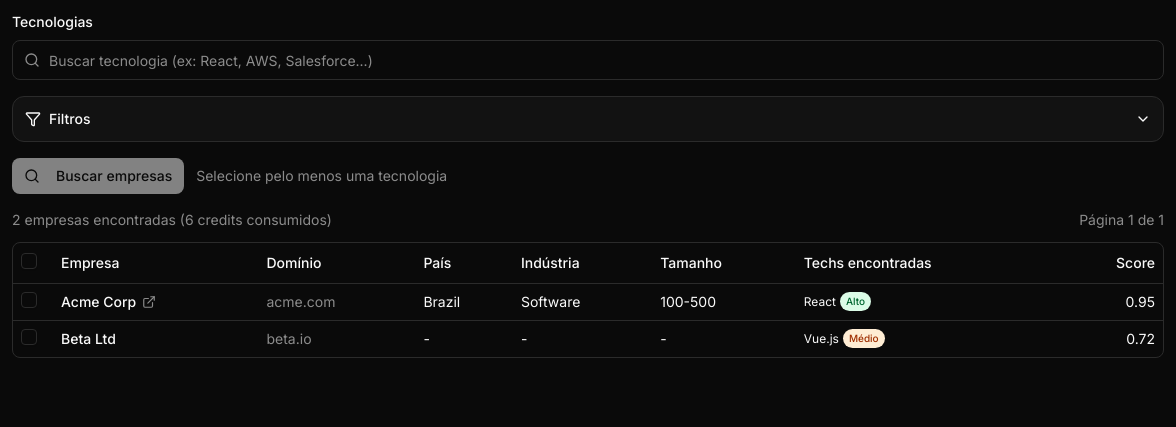
Test: TechnographicPageContent › selecting a company updates selection state
// Select Acme Corp
Click the checkbox with test id "select-row-acme.com". click: click(29, 300)
box: [21,292,37,308]
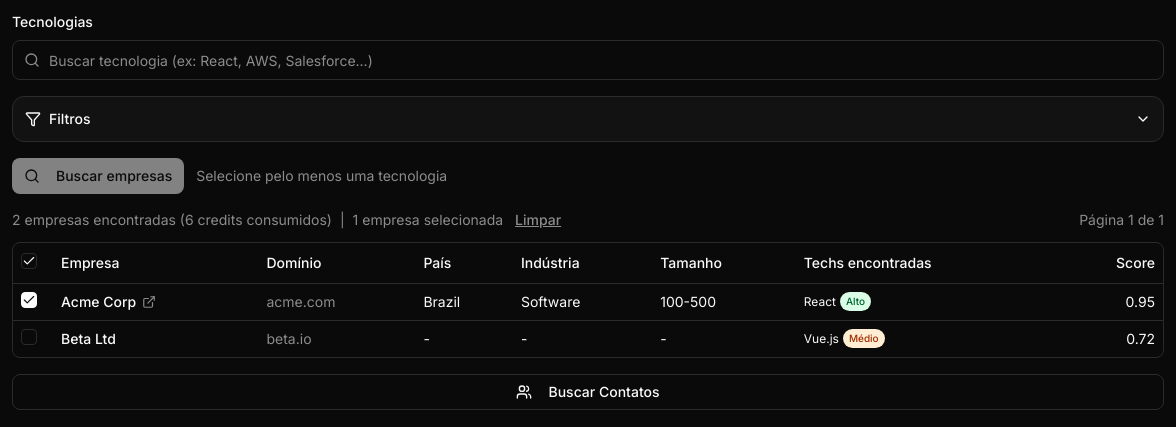
Result: the text with test id "selection-counter" reads "1 empresa selecionada" at [353,210,503,230]
